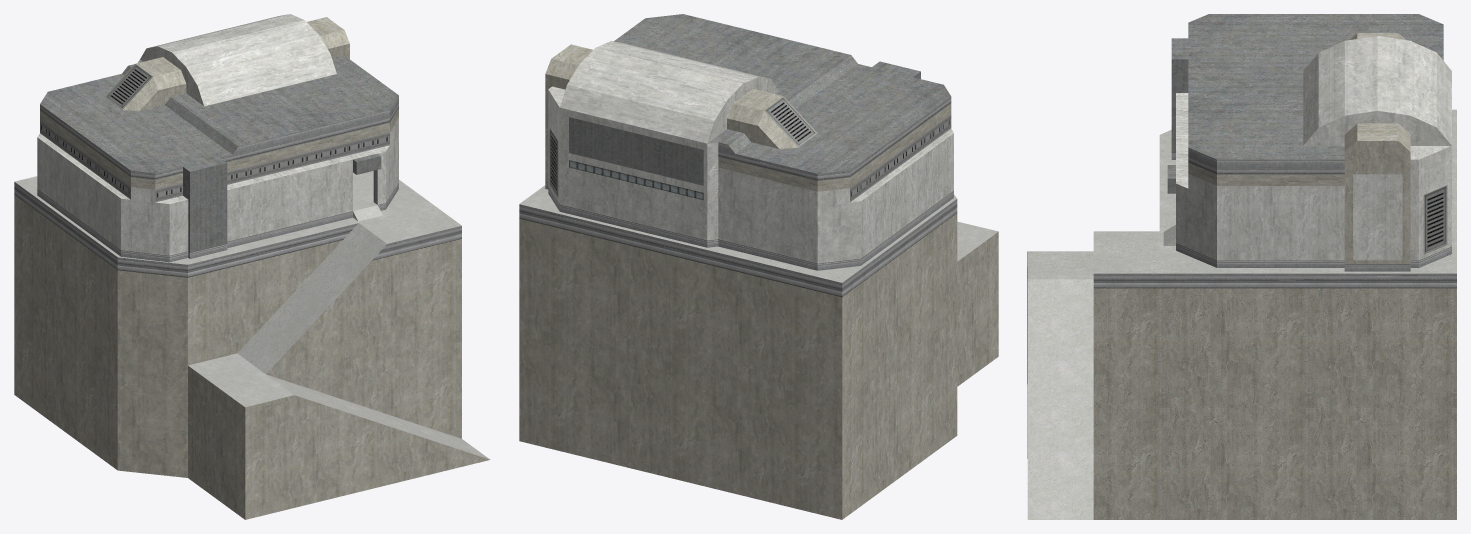
Rendered from ply_corl_house_m_s02_fp1_r0_exterior_mesh_l1.fbx.
3 renders of one model, left to right at view 1: azimuth 30°, elevation 25°; view 2: azimuth 150°, elevation 25°; view 3: azimuth 270°, elevation 25°, orthographic. The views are drawn at different scales.
Visible parts, largest first — view 1: mesh_node; view 2: mesh_node; view 3: mesh_node.
Part boxes in pixels (box(x1,y1,x2,y2)): mesh_node: box(14, 14, 490, 519); mesh_node: box(519, 14, 998, 519); mesh_node: box(1027, 14, 1456, 519).
Size of the model in its own units: 23.53 by 26.1 by 26.07.
